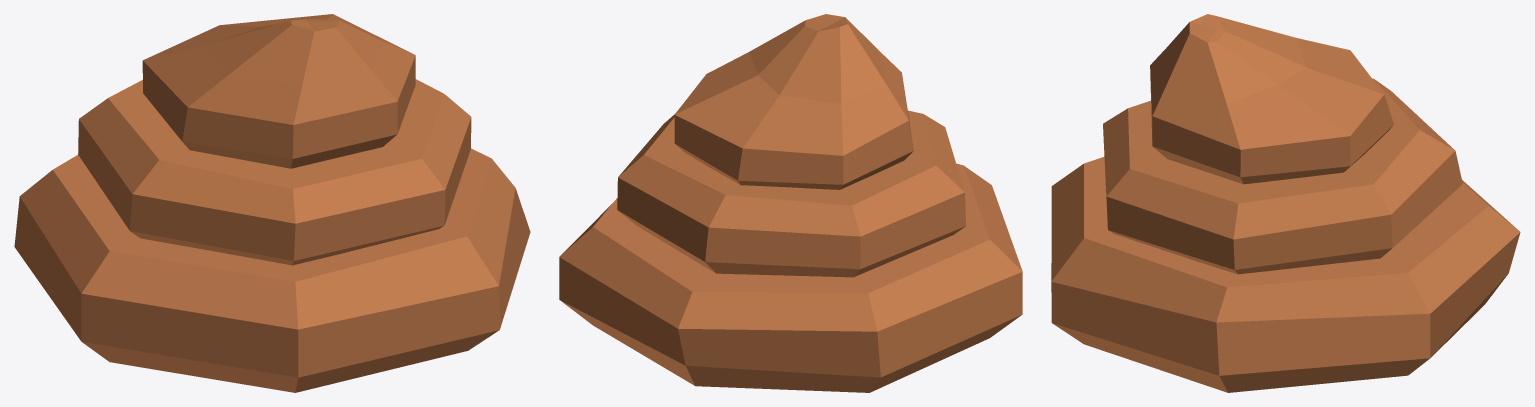
The model's file is shit.glb.
The picture shows the model from 3 angles, left to right: view 1: azimuth 30°, elevation 25°; view 2: azimuth 150°, elevation 25°; view 3: azimuth 270°, elevation 25°; orthographic projection. The views are drawn at different scales.
Parts seen in each view (by area): view 1: Poop_Cylinder.003; view 2: Poop_Cylinder.003; view 3: Poop_Cylinder.003.
Part boxes in pixels (x1,y1,x2,y2): Poop_Cylinder.003: (14, 14, 530, 392); Poop_Cylinder.003: (559, 14, 1022, 392); Poop_Cylinder.003: (1051, 14, 1520, 392).
Bounding box in the file's own units: 0.579 × 0.3745 × 0.5666.
